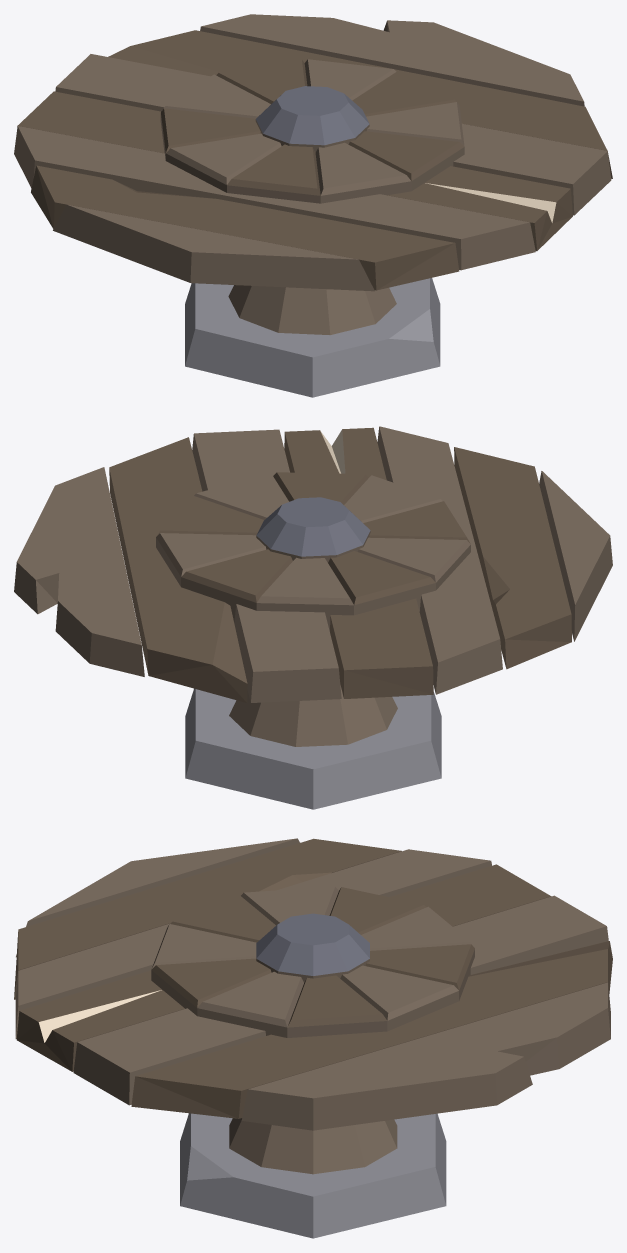
File: _table.fbx
The picture shows the model from 3 angles, top to bottom: view 1: azimuth 30°, elevation 25°; view 2: azimuth 150°, elevation 25°; view 3: azimuth 270°, elevation 25°; orthographic projection. The views are drawn at different scales.
Parts seen in each view (by area): view 1: table; view 2: table; view 3: table.
Boxes of the visible parts, x1,y1,x2,y2 form: table: (14, 14, 612, 397); table: (14, 426, 612, 809); table: (14, 838, 612, 1238).
Size of the model in its own units: 321 by 138 by 308.
